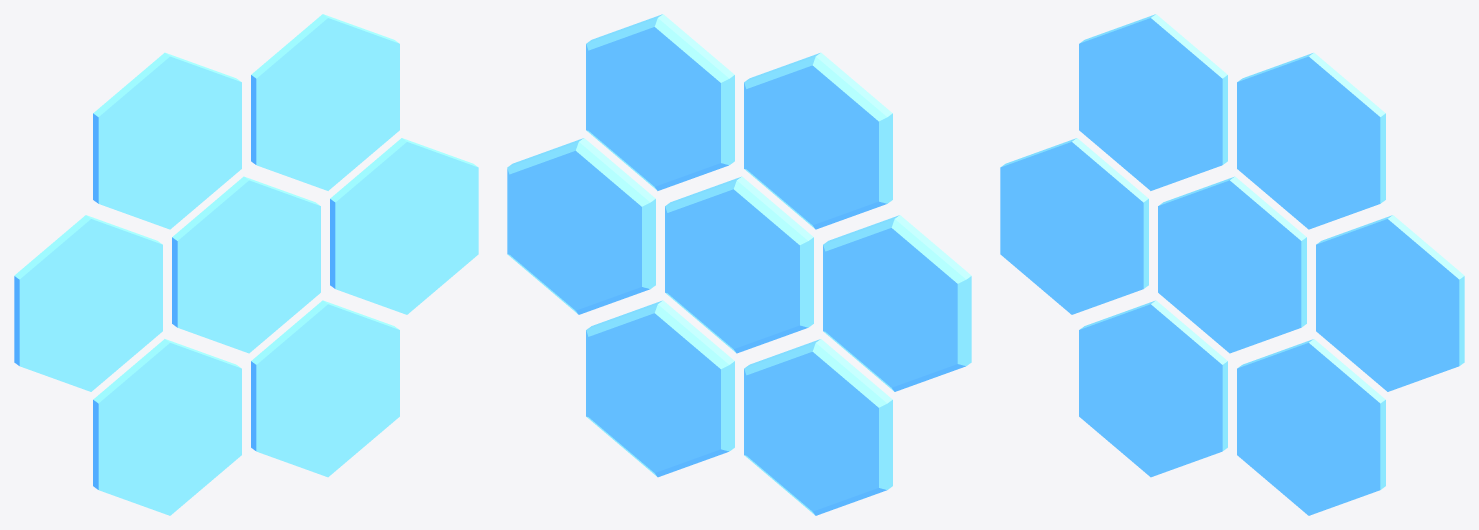
The picture shows the model from 3 angles, left to right: view 1: azimuth 30°, elevation 25°; view 2: azimuth 150°, elevation 25°; view 3: azimuth 330°, elevation 25°; orthographic projection.
Visible parts, largest first — view 1: 円柱.001; view 2: 円柱.001; view 3: 円柱.001.
Part boxes in pixels (x1,y1,x2,y2): 円柱.001: (14, 14, 478, 515); 円柱.001: (507, 14, 971, 515); 円柱.001: (1000, 14, 1464, 515).
Size of the model in its own units: 555 by 531 by 17.86.
